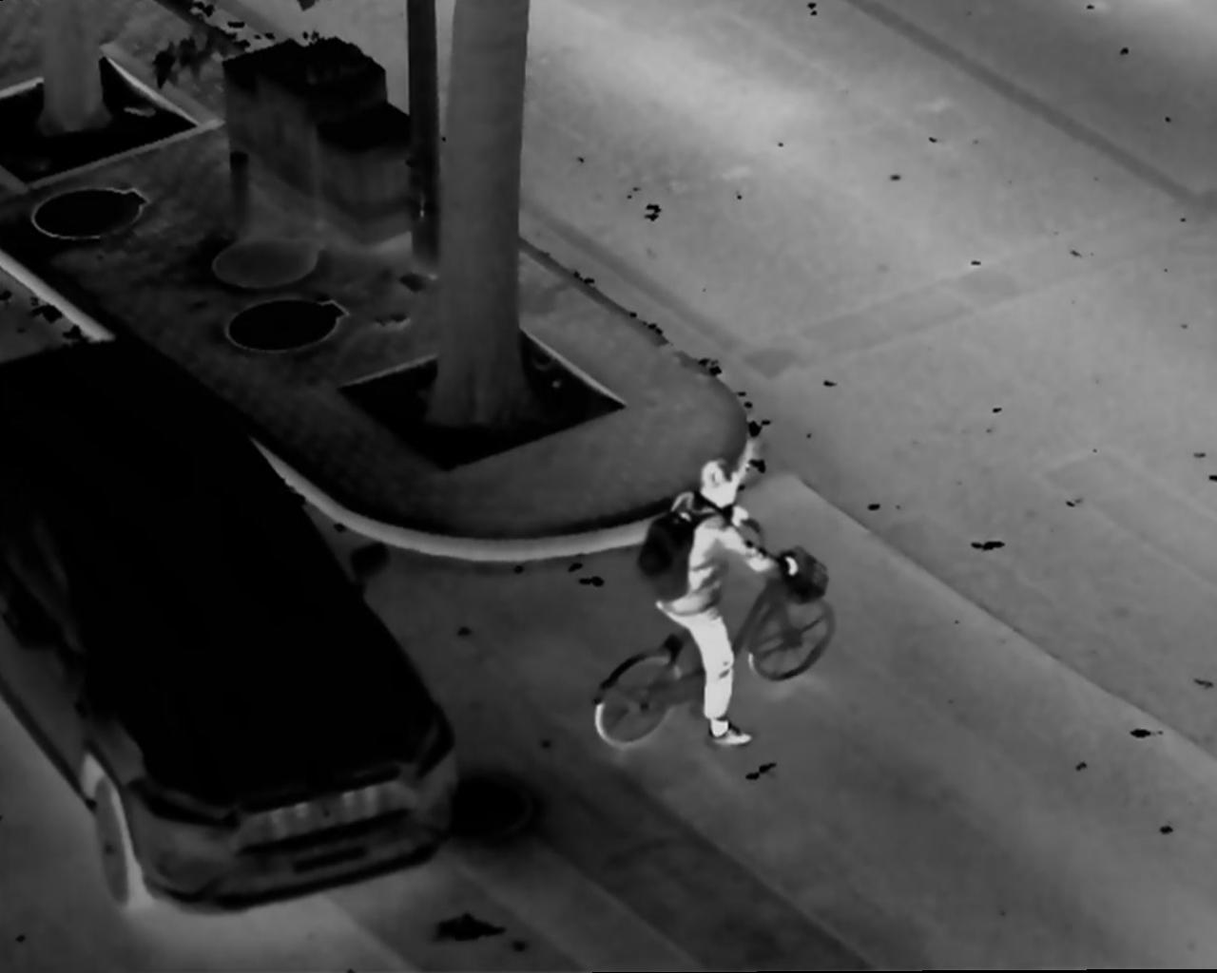person: (644, 461, 804, 754)
